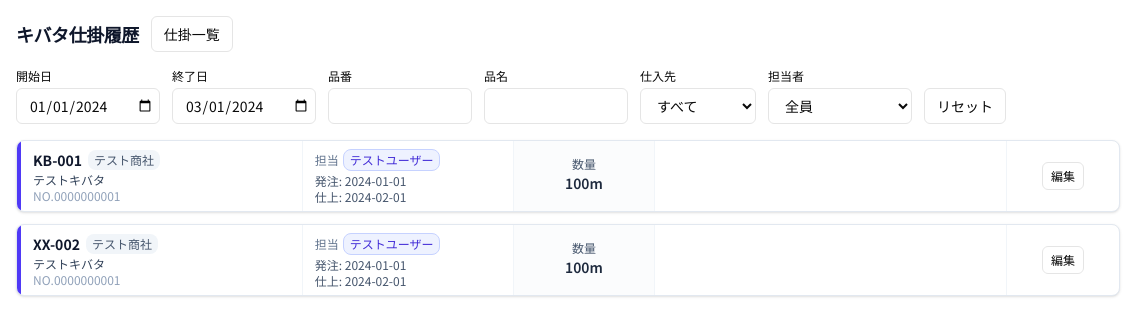
Test case: GrayFabricConfirmTable 品番の絞り込み › 品番で絞り込める
In the field labelled "品番": coordinates (400, 106) [328,88,472,124], type "KB"
Wait 300 ms
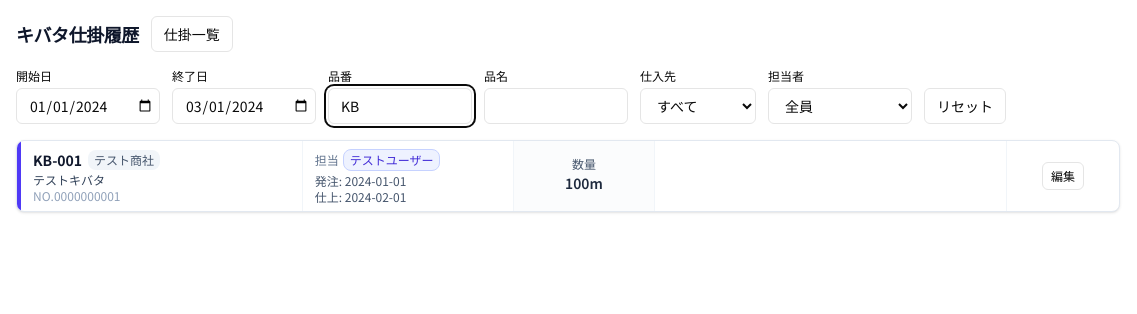
Expected: the text "KB-001" is shown, [33,153,82,167]
Expected: the text "XX-002" is gone
